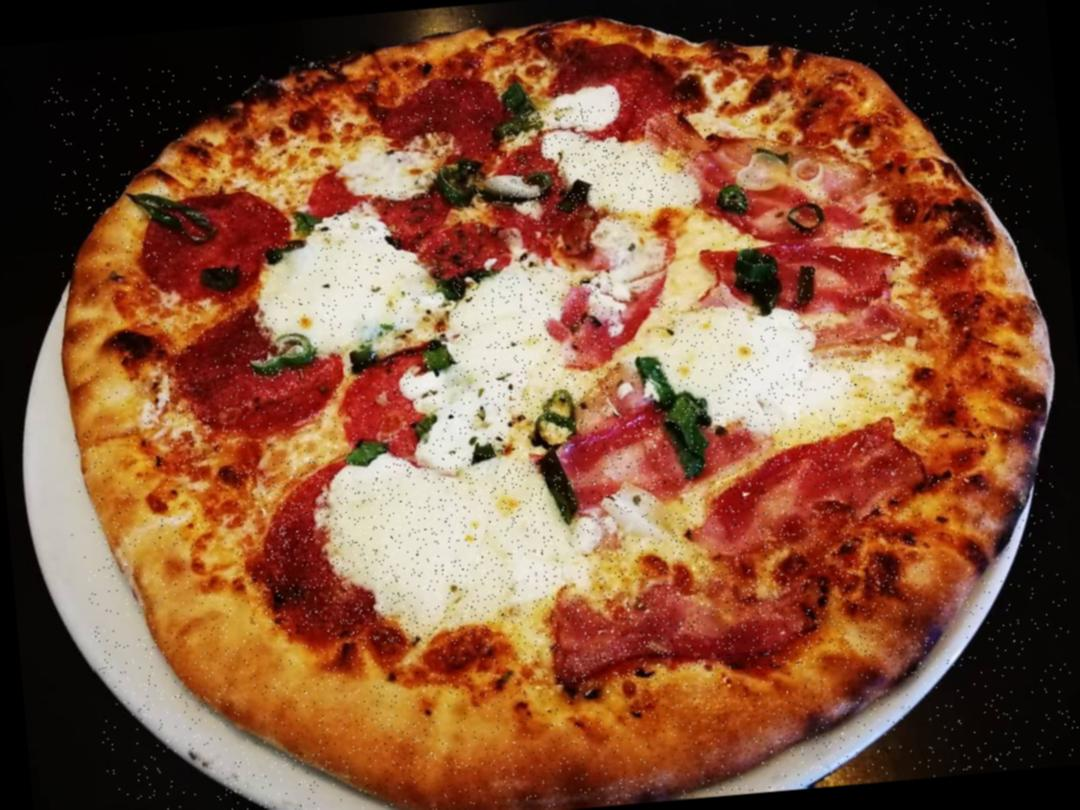Bacon: (530, 418, 931, 686), (546, 400, 750, 507), (706, 236, 916, 328), (551, 222, 693, 352), (703, 150, 846, 241)
Cheese: (318, 440, 626, 653), (654, 277, 906, 451), (256, 214, 446, 372), (450, 269, 624, 439), (502, 94, 700, 228), (334, 139, 432, 197)
Olives: (512, 382, 584, 444), (246, 334, 317, 377), (785, 192, 830, 240), (712, 179, 755, 222)
Pepperoni: (237, 445, 454, 632), (164, 308, 344, 436), (140, 177, 295, 311), (532, 39, 688, 143), (375, 77, 515, 171), (344, 358, 461, 463), (394, 196, 508, 288)
Pizza: (42, 0, 1080, 810)
